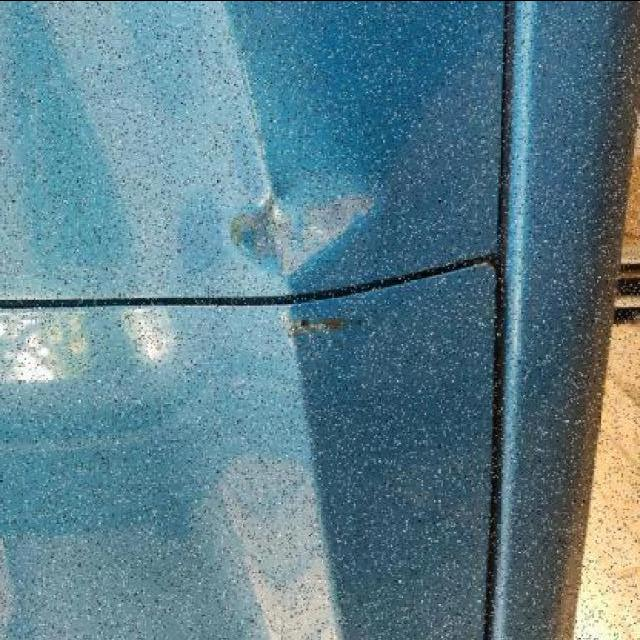doorouter-dent: (0, 296, 563, 640), (5, 0, 562, 297)
